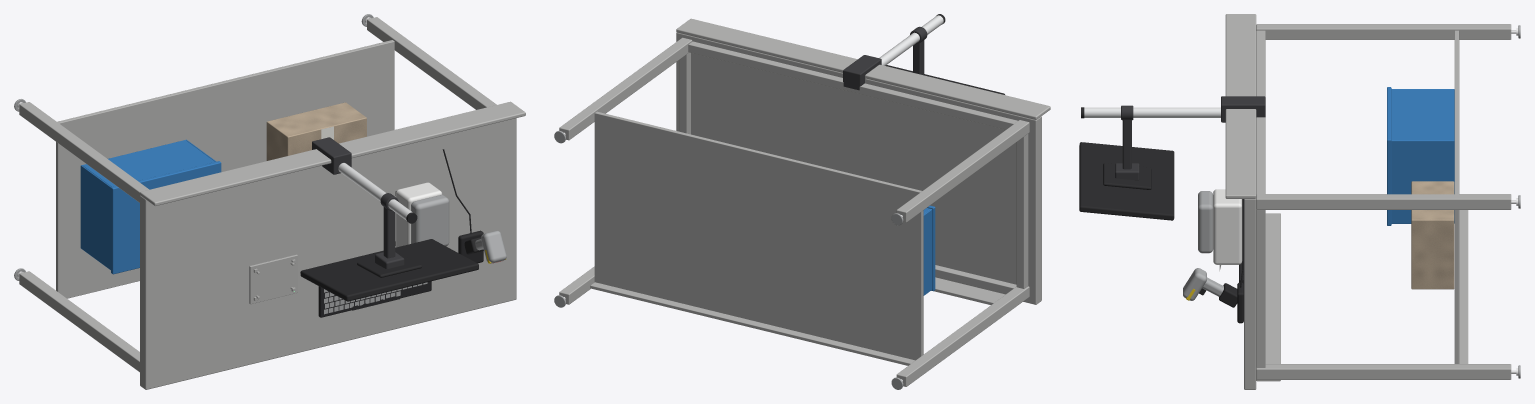
The model's file is AICOR_Lab__StorageRoom__S1_DispatchBench.glb.
3 renders of one model, left to right at view 1: azimuth 30°, elevation 25°; view 2: azimuth 150°, elevation 25°; view 3: azimuth 270°, elevation 25°, orthographic. The views are drawn at different scales.
Visible parts, largest first — view 1: /World/AICOR_Lab/StorageRoom/S1_DispatchBench/Visual/Stainle (×3), /World/AICOR_Lab/StorageRoom/S1_DispatchBench/Visual/Plastic (×4), /World/AICOR_Lab/StorageRoom/S1_DispatchBench/Visual/Cardboa, /World/AICOR_Lab/StorageRoom/S1_DispatchBench/Visual/AluDark, /World/AICOR_Lab/StorageRoom/S1_DispatchBench/Visual/AluAnod; view 2: /World/AICOR_Lab/StorageRoom/S1_DispatchBench/Visual/Stainle (×2), /World/AICOR_Lab/StorageRoom/S1_DispatchBench/Visual/Plastic (×2), /World/AICOR_Lab/StorageRoom/S1_DispatchBench/Visual/AluDark, /World/AICOR_Lab/StorageRoom/S1_DispatchBench/Visual/AluAnod; view 3: /World/AICOR_Lab/StorageRoom/S1_DispatchBench/Visual/Stainle (×2), /World/AICOR_Lab/StorageRoom/S1_DispatchBench/Visual/Plastic (×4), /World/AICOR_Lab/StorageRoom/S1_DispatchBench/Visual/Cardboa, /World/AICOR_Lab/StorageRoom/S1_DispatchBench/Visual/AluDark, /World/AICOR_Lab/StorageRoom/S1_DispatchBench/Visual/AluAnod.
Part boxes in pixels (x1,y1,x2,y2): /World/AICOR_Lab/StorageRoom/S1_DispatchBench/Visual/Stainle (×3): [19, 17, 525, 389]; /World/AICOR_Lab/StorageRoom/S1_DispatchBench/Visual/Plastic (×4): [14, 14, 506, 317]; /World/AICOR_Lab/StorageRoom/S1_DispatchBench/Visual/Cardboa: [266, 102, 366, 160]; /World/AICOR_Lab/StorageRoom/S1_DispatchBench/Visual/AluDark: [312, 137, 404, 268]; /World/AICOR_Lab/StorageRoom/S1_DispatchBench/Visual/AluAnod: [338, 163, 412, 220]; /World/AICOR_Lab/StorageRoom/S1_DispatchBench/Visual/Stainle (×2): [559, 18, 1050, 386]; /World/AICOR_Lab/StorageRoom/S1_DispatchBench/Visual/Plastic (×2): [554, 131, 935, 389]; /World/AICOR_Lab/StorageRoom/S1_DispatchBench/Visual/AluDark: [843, 26, 927, 90]; /World/AICOR_Lab/StorageRoom/S1_DispatchBench/Visual/AluAnod: [879, 15, 943, 65]; /World/AICOR_Lab/StorageRoom/S1_DispatchBench/Visual/Stainle (×2): [1225, 14, 1511, 389]; /World/AICOR_Lab/StorageRoom/S1_DispatchBench/Visual/Plastic (×4): [1079, 25, 1520, 378]; /World/AICOR_Lab/StorageRoom/S1_DispatchBench/Visual/Cardboa: [1411, 181, 1454, 289]; /World/AICOR_Lab/StorageRoom/S1_DispatchBench/Visual/AluDark: [1115, 96, 1265, 180]; /World/AICOR_Lab/StorageRoom/S1_DispatchBench/Visual/AluAnod: [1084, 107, 1220, 117].
Bounding box in the file's own units: 1.4 × 0.715 × 1.44.
21 materials, 5 textured.
